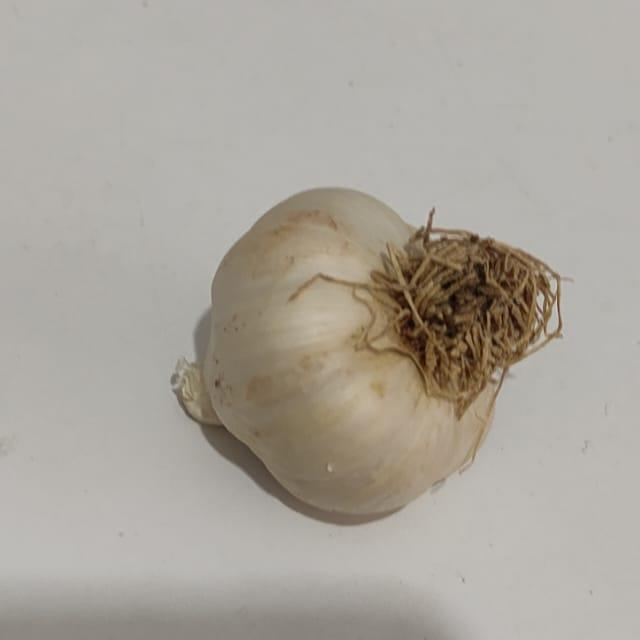garlic: (163, 173, 570, 543)
